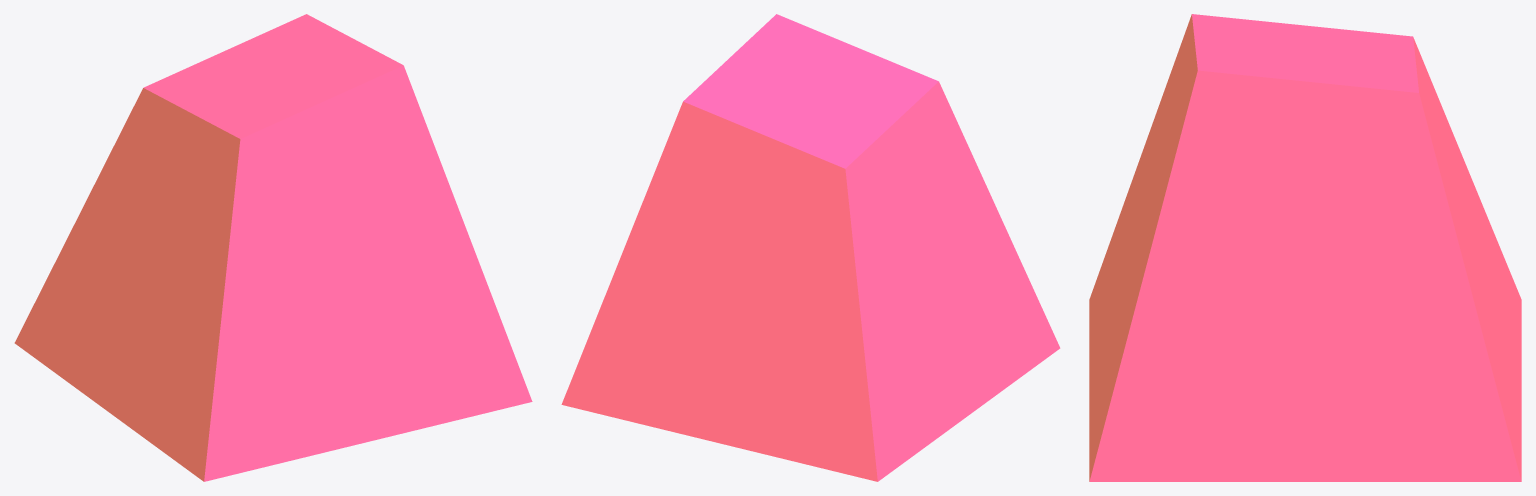
Rendered from base-inside-out.fbx.
The picture shows the model from 3 angles, left to right: view 1: azimuth 30°, elevation 25°; view 2: azimuth 150°, elevation 25°; view 3: azimuth 270°, elevation 25°; orthographic projection. The views are drawn at different scales.
Parts seen in each view (by area): view 1: pCube1; view 2: pCube1; view 3: pCube1.
Part boxes in pixels (x1,y1,x2,y2): pCube1: (14,14,532,481); pCube1: (561,14,1060,481); pCube1: (1089,14,1521,481).
Size of the model in its own units: 10 by 9.36 by 10.
